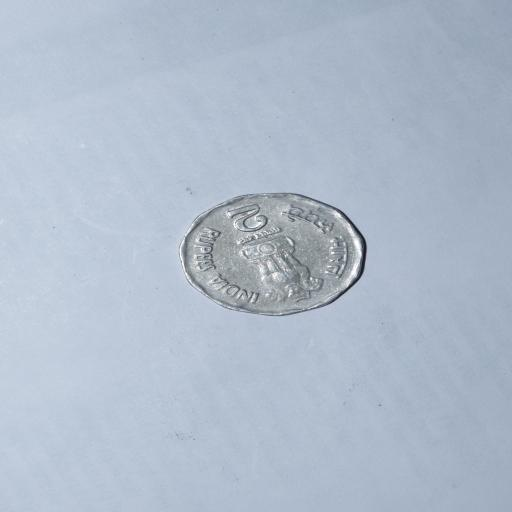rupee2: (175, 193, 372, 321)
